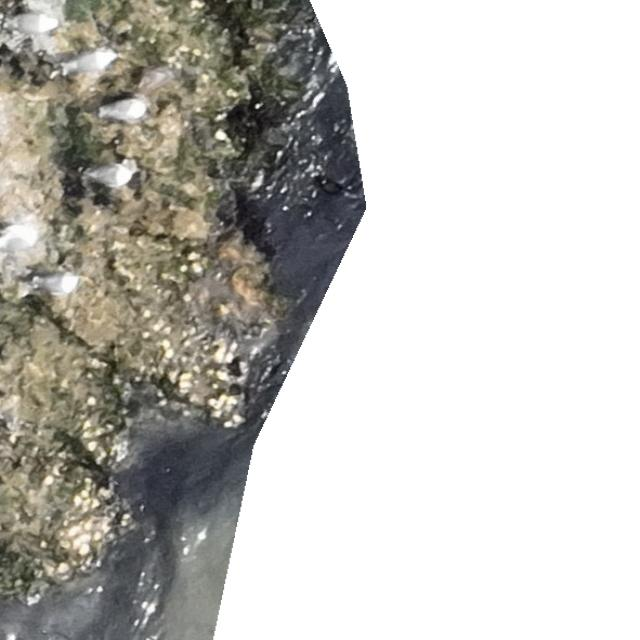umineko: (56, 49, 116, 78), (1, 226, 36, 254), (37, 274, 77, 295), (10, 15, 59, 31), (106, 101, 145, 121), (90, 165, 131, 184)
